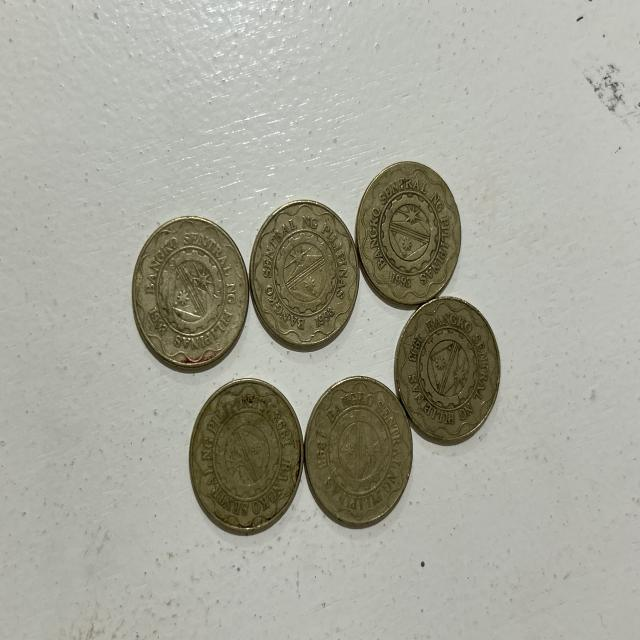5_Old_Back: (187, 380, 304, 534), (304, 370, 417, 529), (256, 202, 361, 359), (133, 214, 240, 368), (399, 303, 504, 441), (358, 165, 456, 296)
